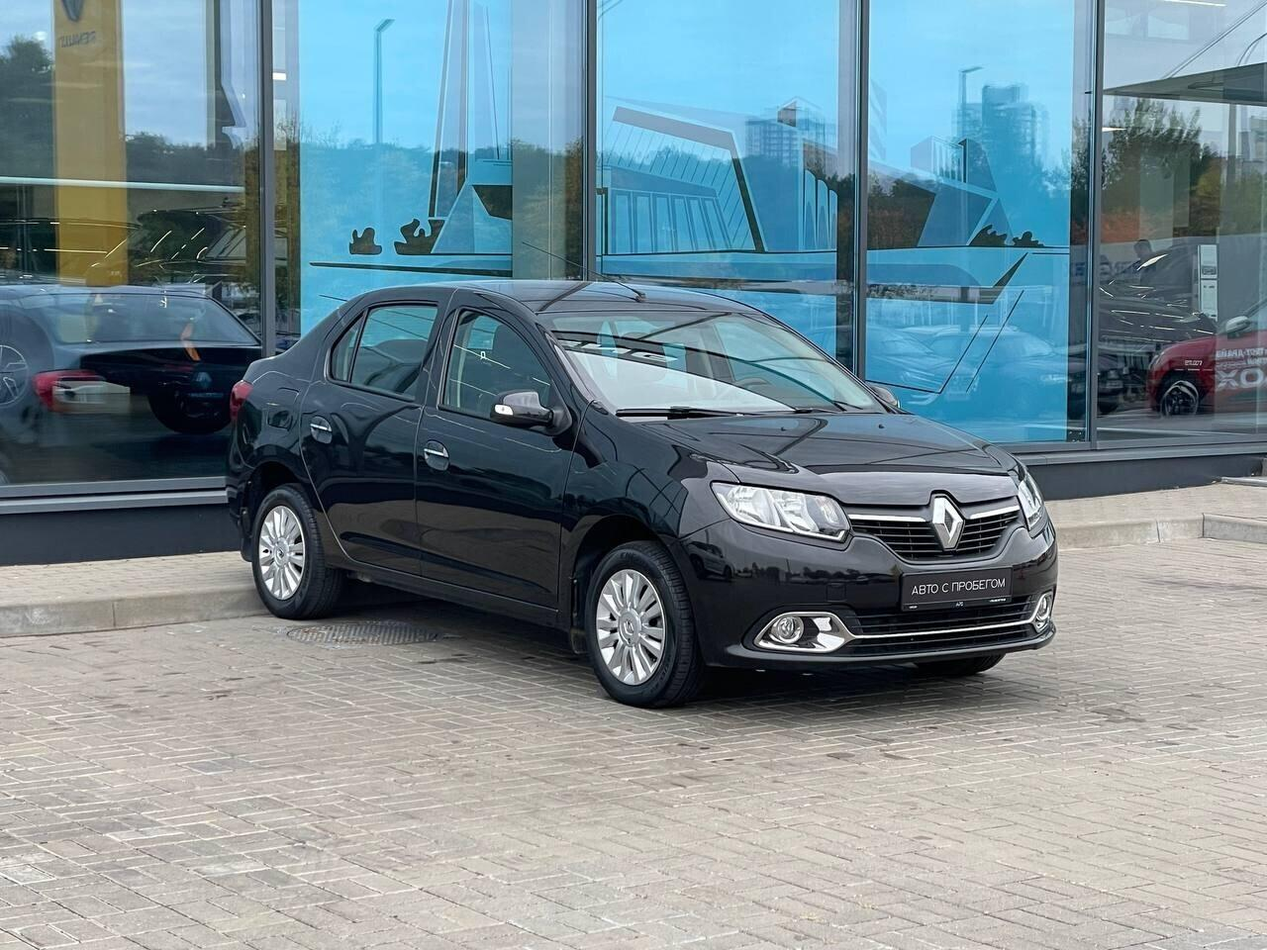Logan_2013-2018: (228, 275, 1074, 703)
